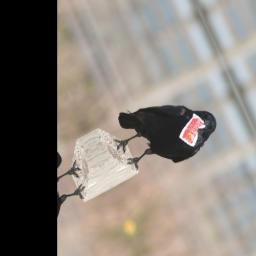Crow: (103, 71, 226, 189)
